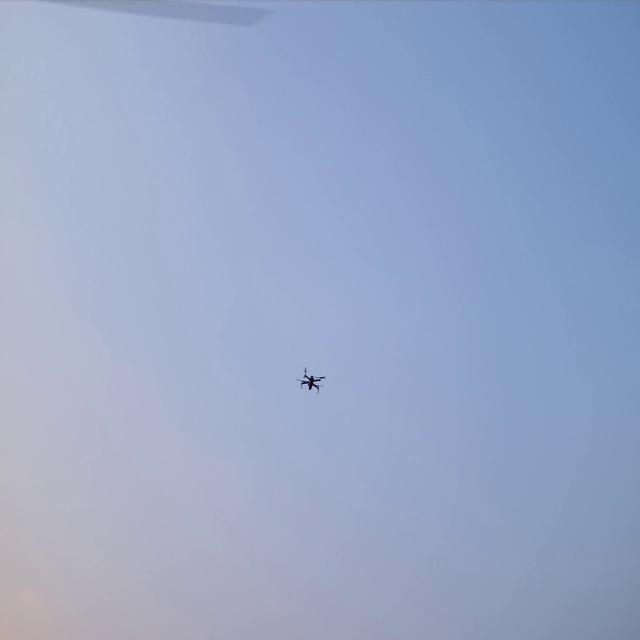UAV: (295, 365, 326, 396)
